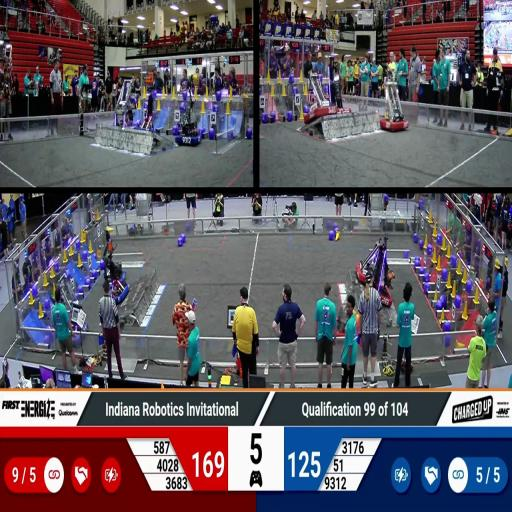robot: (376, 77, 412, 134), (303, 68, 337, 122), (326, 54, 353, 119), (368, 240, 393, 308), (356, 237, 388, 285), (173, 94, 202, 144), (114, 77, 136, 131), (136, 82, 157, 134), (102, 240, 126, 282), (108, 267, 130, 303)
